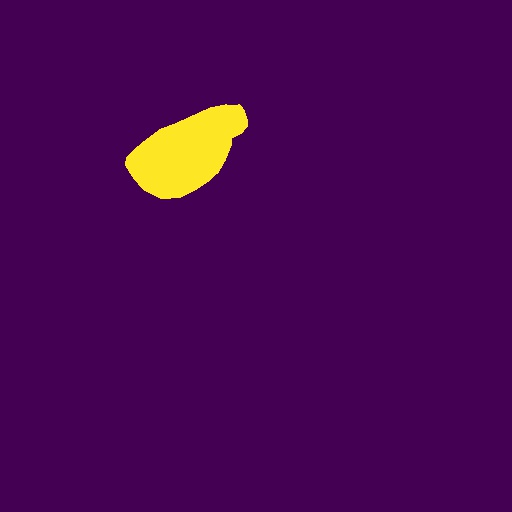Gliomia_tumour: (125, 104, 248, 199)
